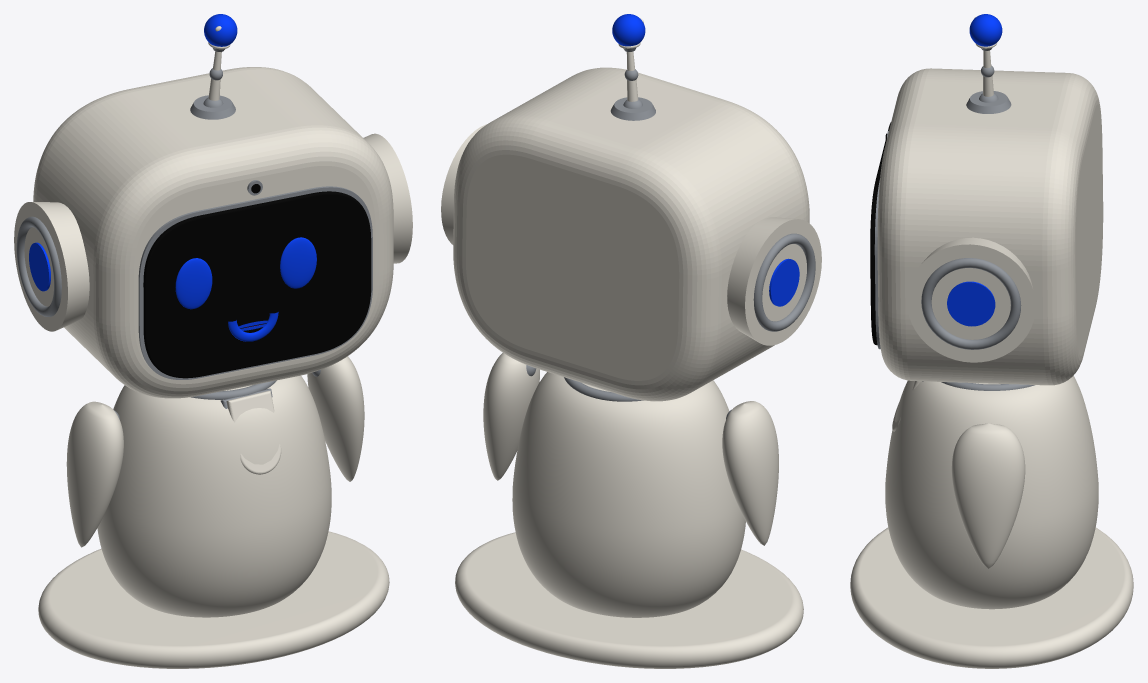
Rendered from robot.obj.
3 views of the same model, side by side, from view 1: azimuth 30°, elevation 25°; view 2: azimuth 150°, elevation 25°; view 3: azimuth 270°, elevation 25° (orthographic).
Parts seen in each view (by area): view 1: head_shell, body, screen, base, arm_L_shell, ear_L, arm_R_shell, screen_bezel, ear_R, ear_ring_L, eye_L, eye_R (+6 smaller); view 2: head_shell, body, base, ear_L, arm_L_shell, arm_R_shell, ear_ring_L, ear_light_L, ear_R, antenna_tip, antenna_collar, collar; view 3: head_shell, body, base, ear_R, arm_R_shell, ear_ring_R, ear_light_R, screen, antenna_tip, antenna_collar, collar, screen_bezel.
Part boxes in pixels (x1=…): head_shell: x1=33, y1=67, x2=393, y2=398; body: x1=97, y1=375, x2=331, y2=617; screen: x1=143, y1=191, x2=371, y2=378; base: x1=38, y1=531, x2=389, y2=668; arm_L_shell: x1=66, y1=401, x2=123, y2=547; ear_L: x1=14, y1=202, x2=89, y2=331; arm_R_shell: x1=307, y1=356, x2=364, y2=481; screen_bezel: x1=138, y1=186, x2=372, y2=379; ear_R: x1=363, y1=133, x2=412, y2=263; ear_ring_L: x1=16, y1=216, x2=61, y2=316; eye_L: x1=175, y1=258, x2=212, y2=309; eye_R: x1=280, y1=237, x2=316, y2=288; head_shell: x1=453, y1=67, x2=809, y2=401; body: x1=512, y1=372, x2=745, y2=617; base: x1=455, y1=532, x2=803, y2=668; ear_L: x1=727, y1=217, x2=821, y2=345; arm_L_shell: x1=722, y1=401, x2=778, y2=545; arm_R_shell: x1=483, y1=353, x2=539, y2=480; ear_ring_L: x1=753, y1=233, x2=815, y2=331; ear_light_L: x1=769, y1=258, x2=799, y2=306; ear_R: x1=441, y1=124, x2=486, y2=244; antenna_tip: x1=612, y1=14, x2=645, y2=46; antenna_collar: x1=610, y1=97, x2=655, y2=120; collar: x1=564, y1=377, x2=643, y2=401; head_shell: x1=877, y1=68, x2=1103, y2=385; body: x1=885, y1=376, x2=1098, y2=609; base: x1=850, y1=527, x2=1133, y2=668; ear_R: x1=906, y1=237, x2=1035, y2=362; arm_R_shell: x1=951, y1=423, x2=1025, y2=568; ear_ring_R: x1=921, y1=258, x2=1021, y2=349; ear_light_R: x1=947, y1=281, x2=995, y2=326; screen: x1=870, y1=122, x2=890, y2=345; antenna_tip: x1=969, y1=14, x2=1002, y2=46; antenna_collar: x1=966, y1=91, x2=1011, y2=113; collar: x1=941, y1=382, x2=1034, y2=390; screen_bezel: x1=874, y1=180, x2=880, y2=349.
Bounding box in the file's own units: 0.4504 × 0.7426 × 0.3276.
